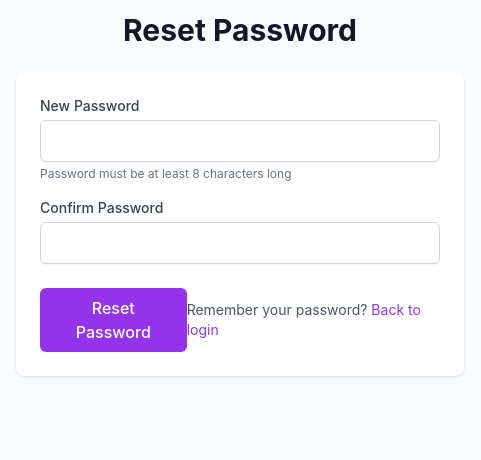
ResetPasswordPage › should show error for password mismatch
Type "Password123" into the password field labelled "New Password" at (240, 141), box [40, 120, 440, 162]
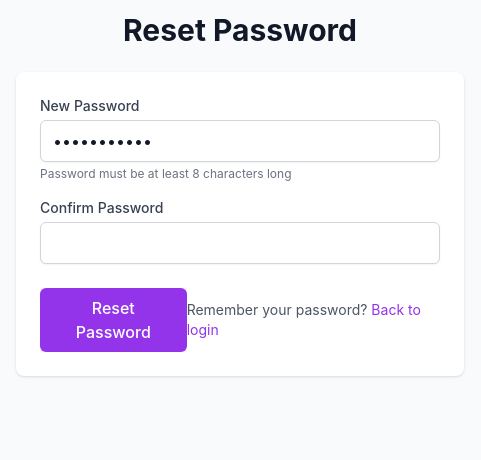
Type "DifferentPassword123" into the password field labelled "Confirm Password" at (240, 243), box [40, 222, 440, 264]
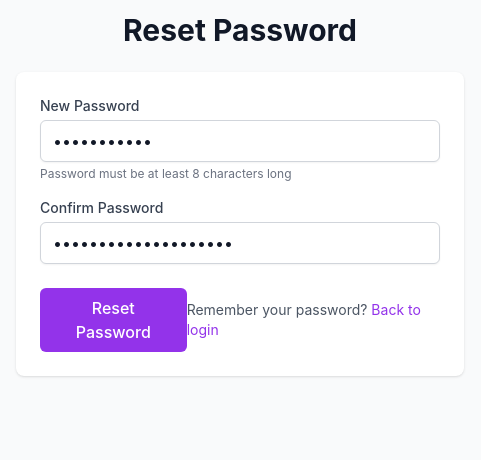
// Submit the form
Click the button "Reset Password" at (113, 320), box [40, 288, 187, 352]
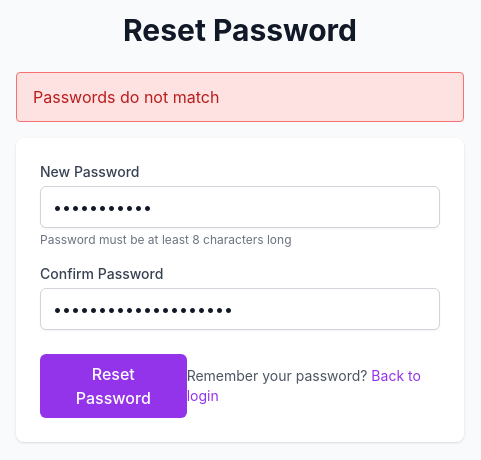
expect the text "Passwords do not match" is shown: met, box [16, 72, 464, 122]
